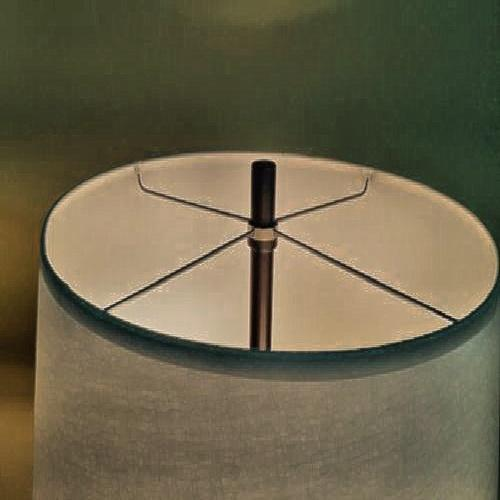lamp: (40, 158, 496, 474)
